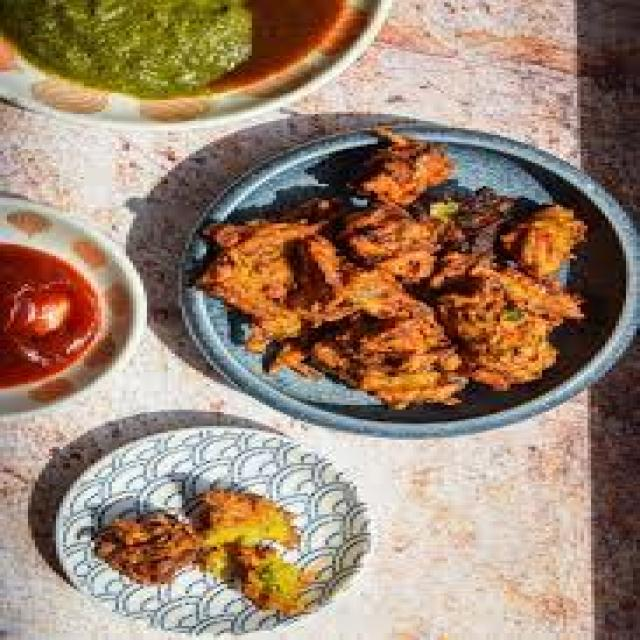BAJI: (196, 141, 592, 407), (75, 485, 320, 612)
